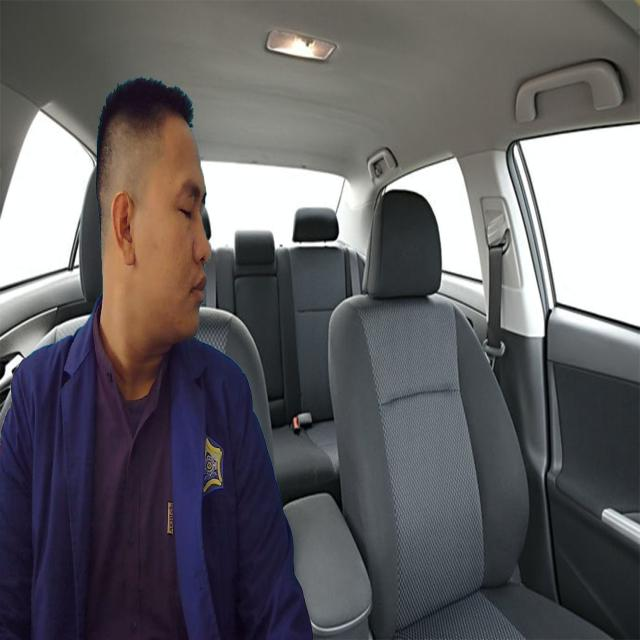no-seatbelt: (139, 107, 220, 343)
